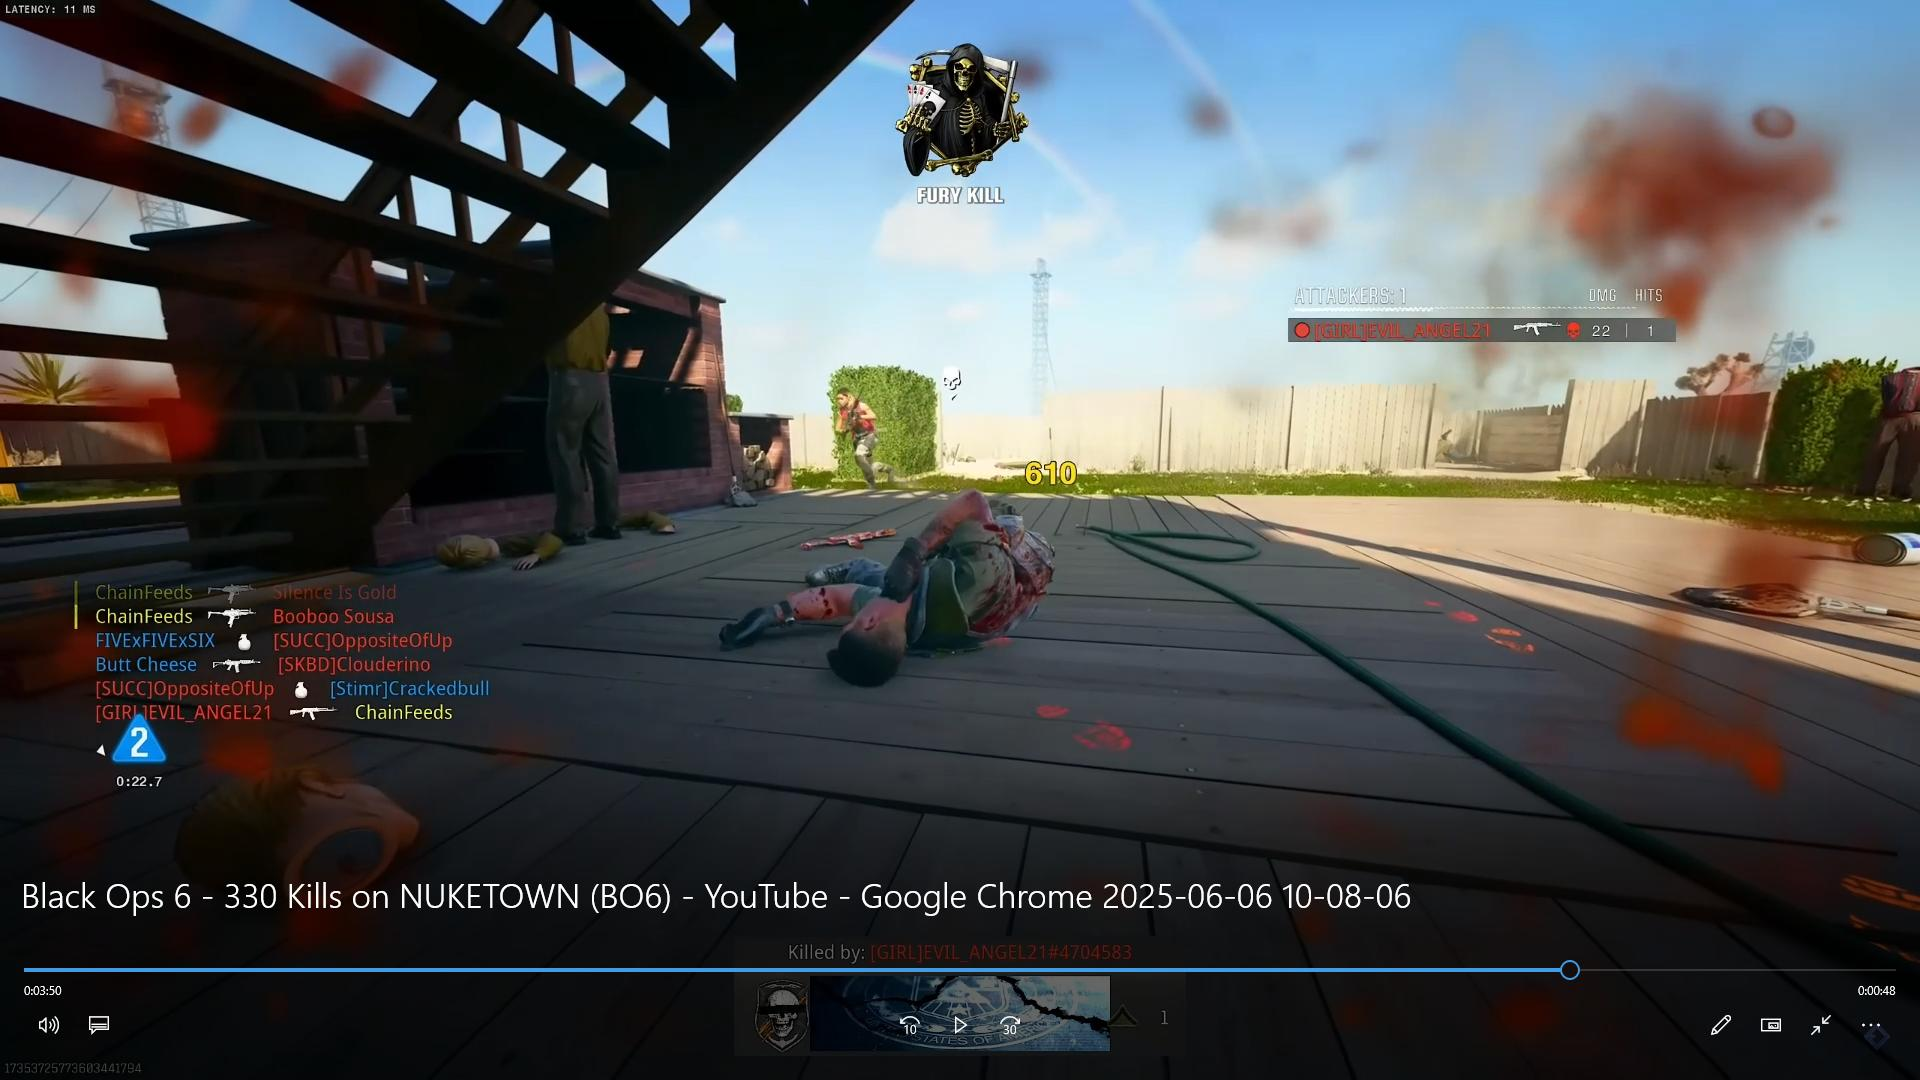Enemy: (824, 384, 890, 481)
